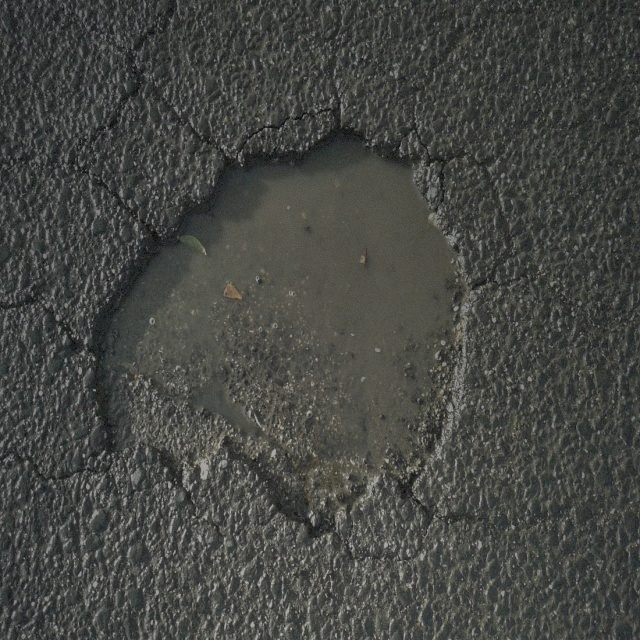pothole: (84, 107, 476, 553)
